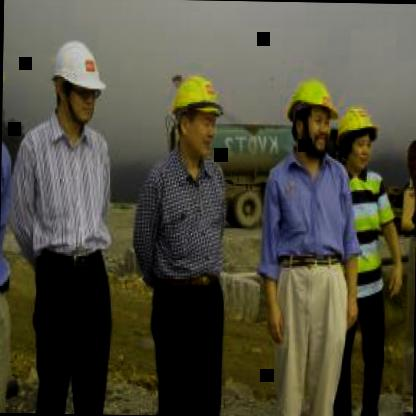helmet: (47, 34, 106, 134), (167, 69, 228, 160), (282, 71, 341, 158), (335, 100, 381, 171)
